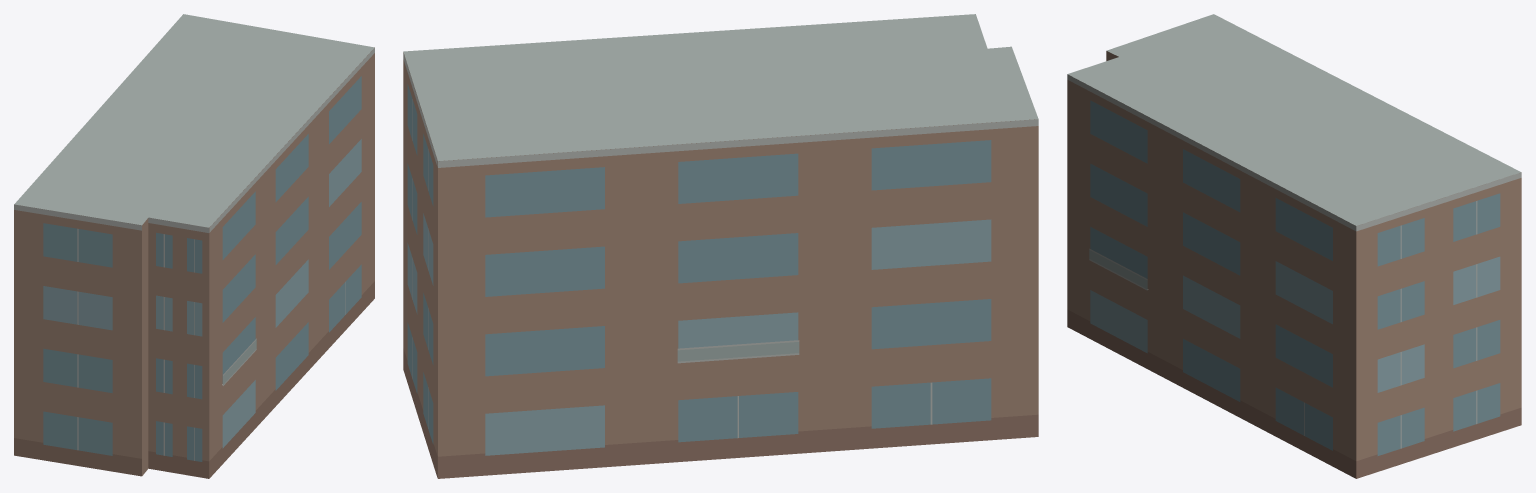
File: survey-upis-32836439.glb
3 renders of one model, left to right at view 1: azimuth 30°, elevation 25°; view 2: azimuth 150°, elevation 25°; view 3: azimuth 270°, elevation 25°, orthographic. The views are drawn at different scales.
Visible parts, largest first — view 1: survey-upis-32836439.tmp; view 2: survey-upis-32836439.tmp; view 3: survey-upis-32836439.tmp.
Part boxes in pixels (x1,y1,x2,y2): survey-upis-32836439.tmp: [14, 14, 374, 478]; survey-upis-32836439.tmp: [403, 14, 1038, 478]; survey-upis-32836439.tmp: [1067, 14, 1521, 478].
Bounding box in the file's own units: 20.33 × 11.3 × 18.4.
